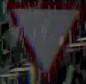Give way: (5, 1, 85, 75)
